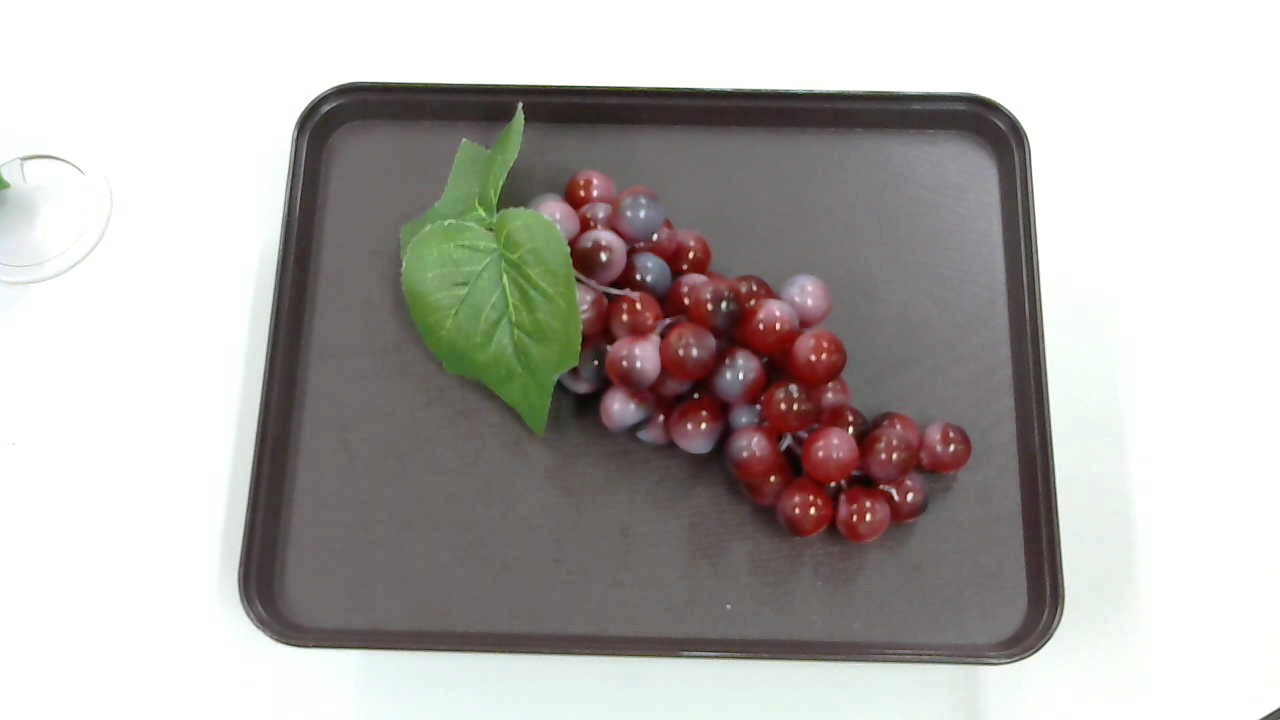grape: (381, 91, 986, 556)
